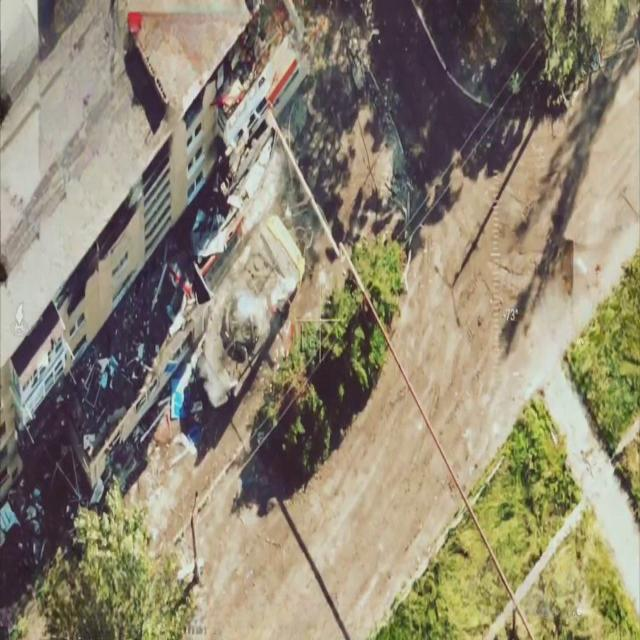AIFV: (192, 214, 308, 423)
